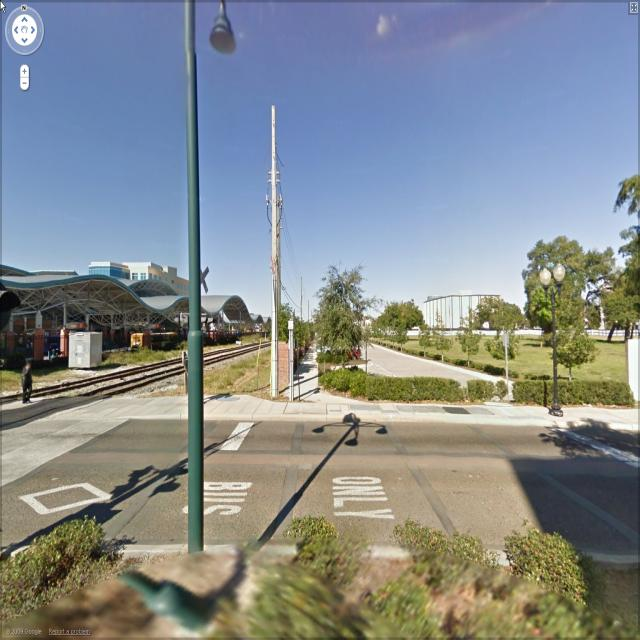b_1: (424, 274, 516, 337), (78, 258, 192, 291)
